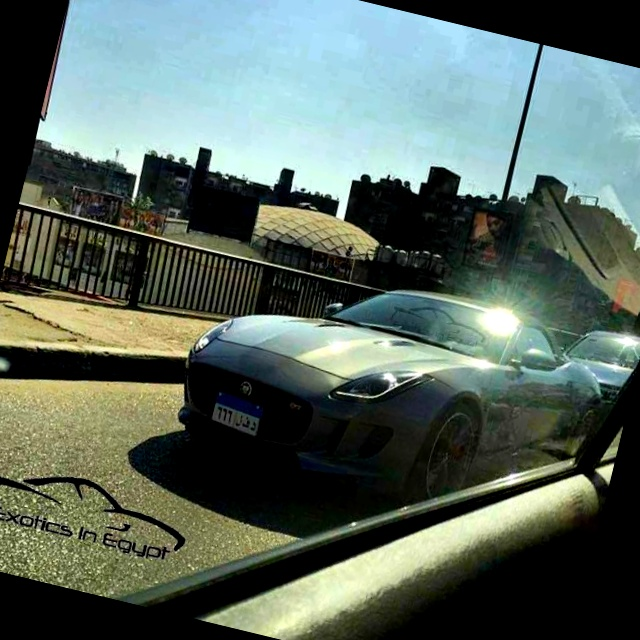License Plate: (207, 388, 267, 440)
